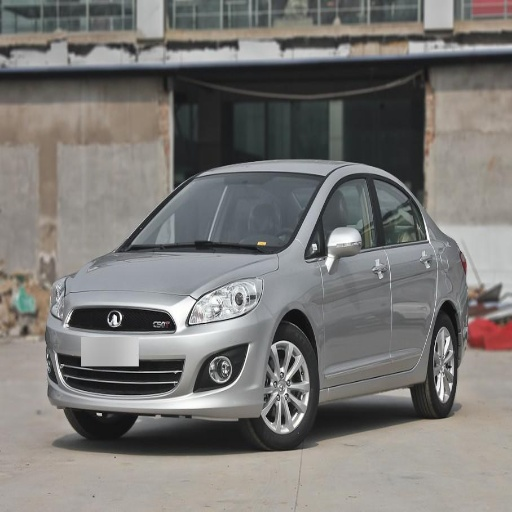front_bumper: (49, 292, 277, 419)
front_glass: (118, 172, 325, 253)
front_left_door: (310, 172, 391, 381)
